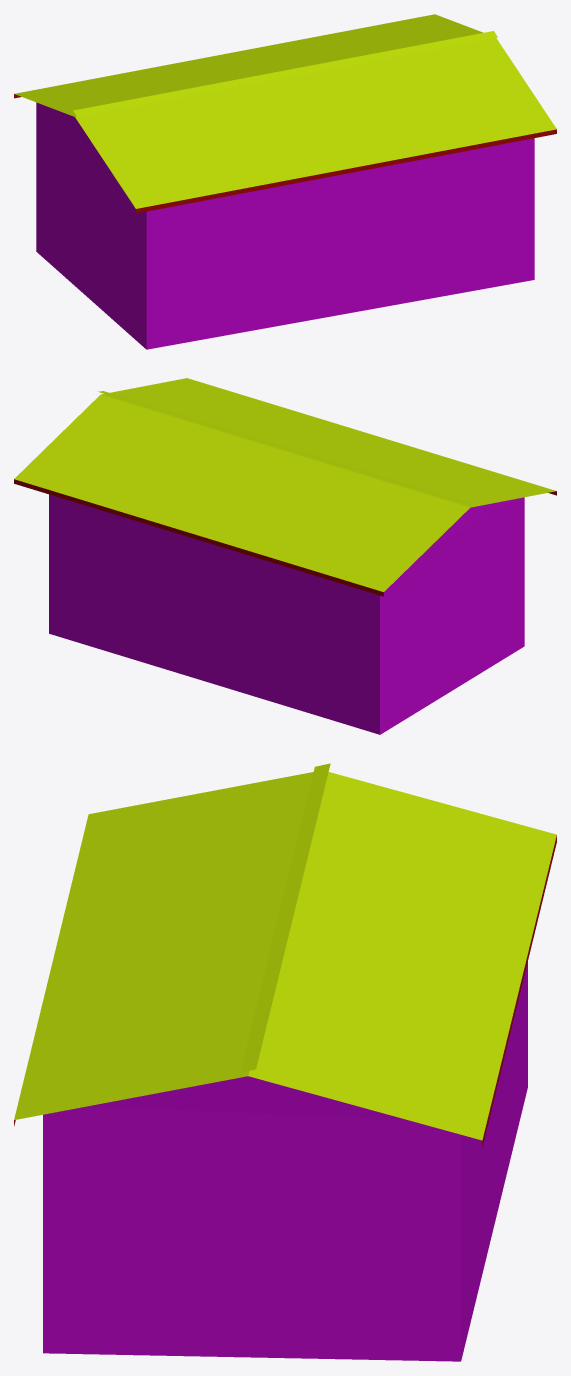
Rendered from lct_5.glb.
The picture shows the model from 3 angles, top to bottom: view 1: azimuth 30°, elevation 25°; view 2: azimuth 150°, elevation 25°; view 3: azimuth 270°, elevation 25°; orthographic projection. The views are drawn at different scales.
Visible parts, largest first — view 1: lct_5; view 2: lct_5; view 3: lct_5.
Boxes of the visible parts, x1=… form: lct_5: x1=14, y1=14, x2=556, y2=349; lct_5: x1=14, y1=378, x2=556, y2=734; lct_5: x1=14, y1=763, x2=556, y2=1361.
Bounding box in the file's own units: 11.64 × 5.06 × 8.18.
